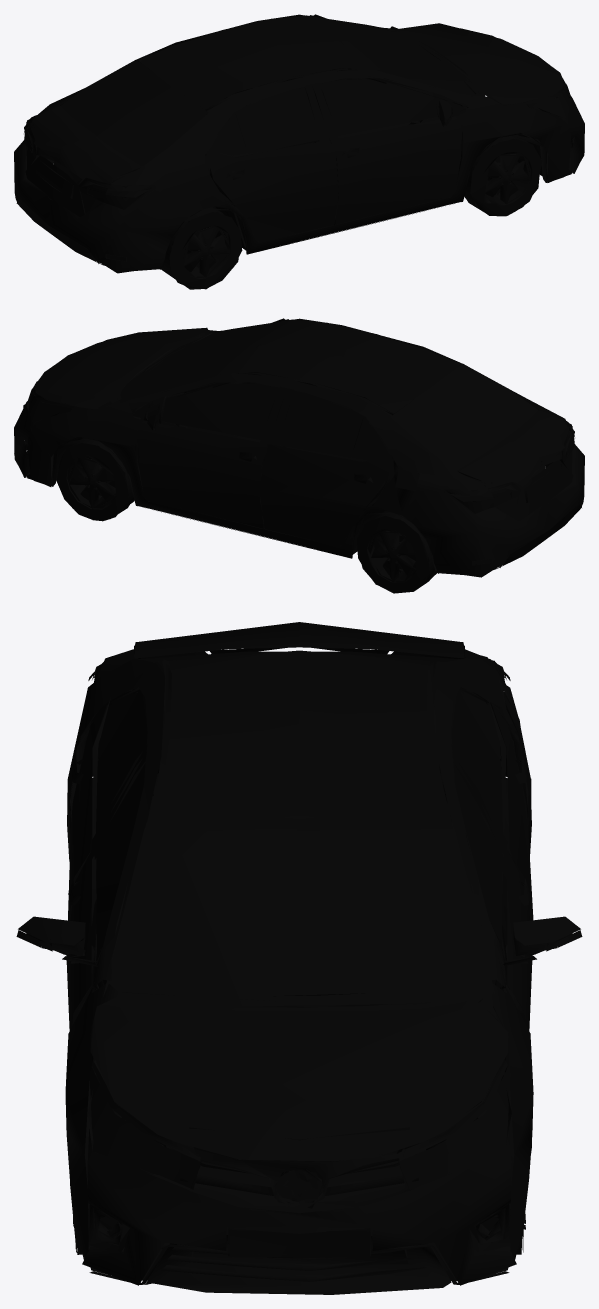
The model's file is v_corolla_lod1.glb.
3 renders of one model, top to bottom at view 1: azimuth 30°, elevation 25°; view 2: azimuth 150°, elevation 25°; view 3: azimuth 270°, elevation 25°, orthographic. The views are drawn at different scales.
Parts seen in each view (by area): view 1: v_corolla_lod1; view 2: v_corolla_lod1; view 3: v_corolla_lod1.
Boxes of the visible parts, x1,y1,x2,y2 form: v_corolla_lod1: (14, 14, 584, 289); v_corolla_lod1: (14, 318, 584, 593); v_corolla_lod1: (16, 622, 582, 1294).
Bounding box in the file's own units: 4.6 × 1.48 × 2.21.
Materials: 1 (1 with a texture image).
